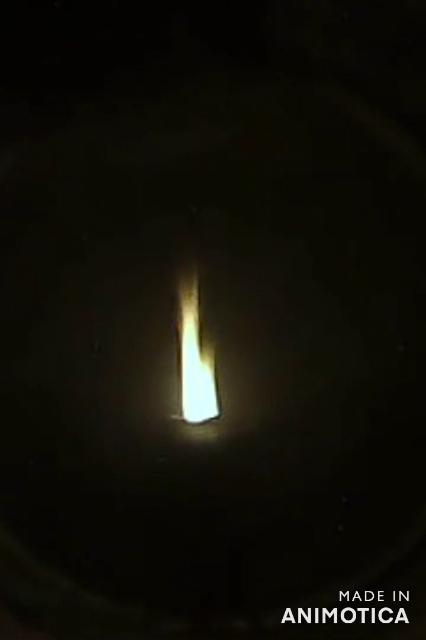burner flame: (174, 270, 224, 428)
